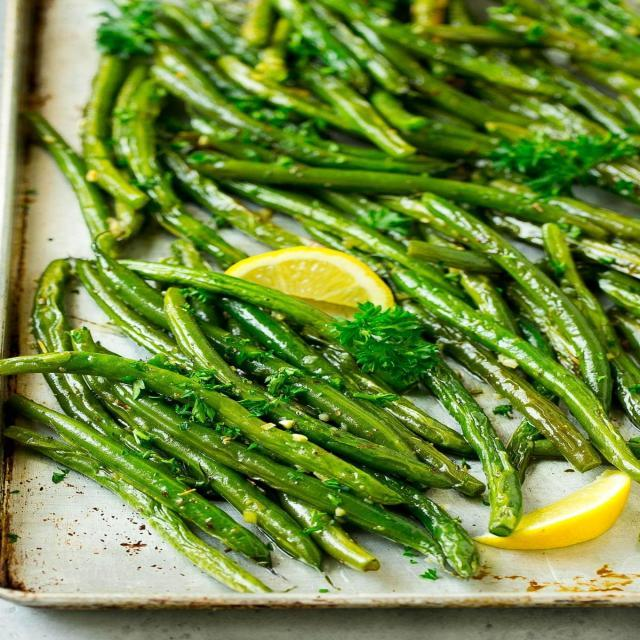Beans: (4, 0, 639, 599)
